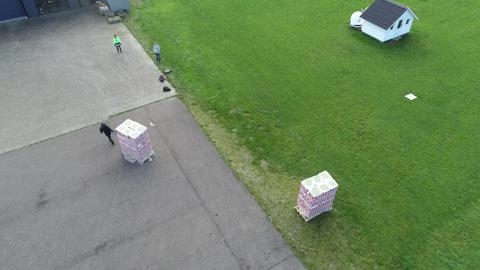RockwoolPallet: (117, 117, 155, 168)
